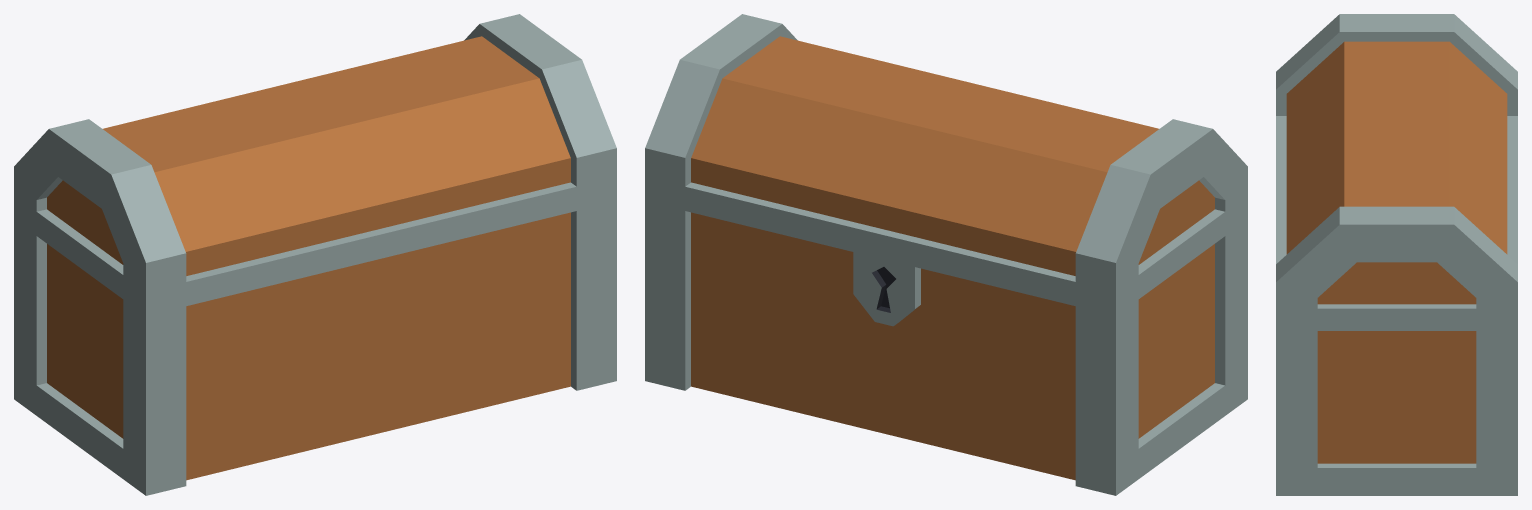
Rendered from chest.glb.
3 views of the same model, side by side, from view 1: azimuth 30°, elevation 25°; view 2: azimuth 150°, elevation 25°; view 3: azimuth 270°, elevation 25° (orthographic). The views are drawn at different scales.
Visible parts, largest first — view 1: Chest1; view 2: Chest1; view 3: Chest1.
Part boxes in pixels (<box>): Chest1: <box>14,14,616,495</box>; Chest1: <box>645,14,1247,495</box>; Chest1: <box>1276,14,1517,495</box>.
Size of the model in its own units: 3.24 by 1.94 by 1.57.
Materials: 1 (1 with a texture image).
